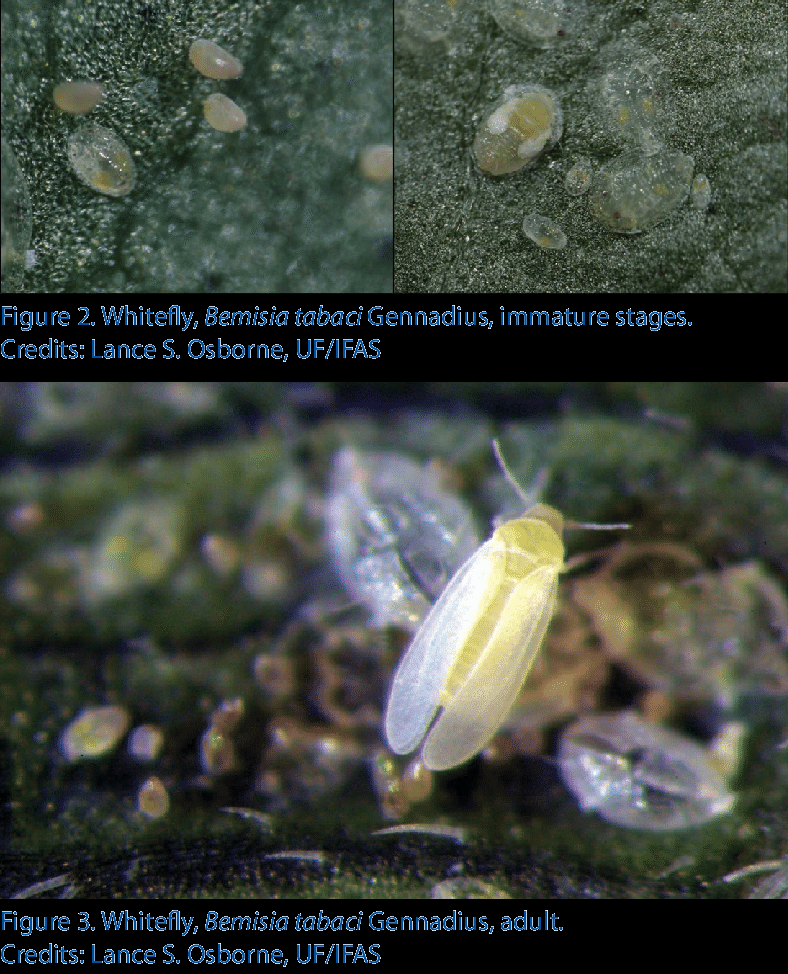Tobacco Whitefly: (374, 473, 585, 823)
